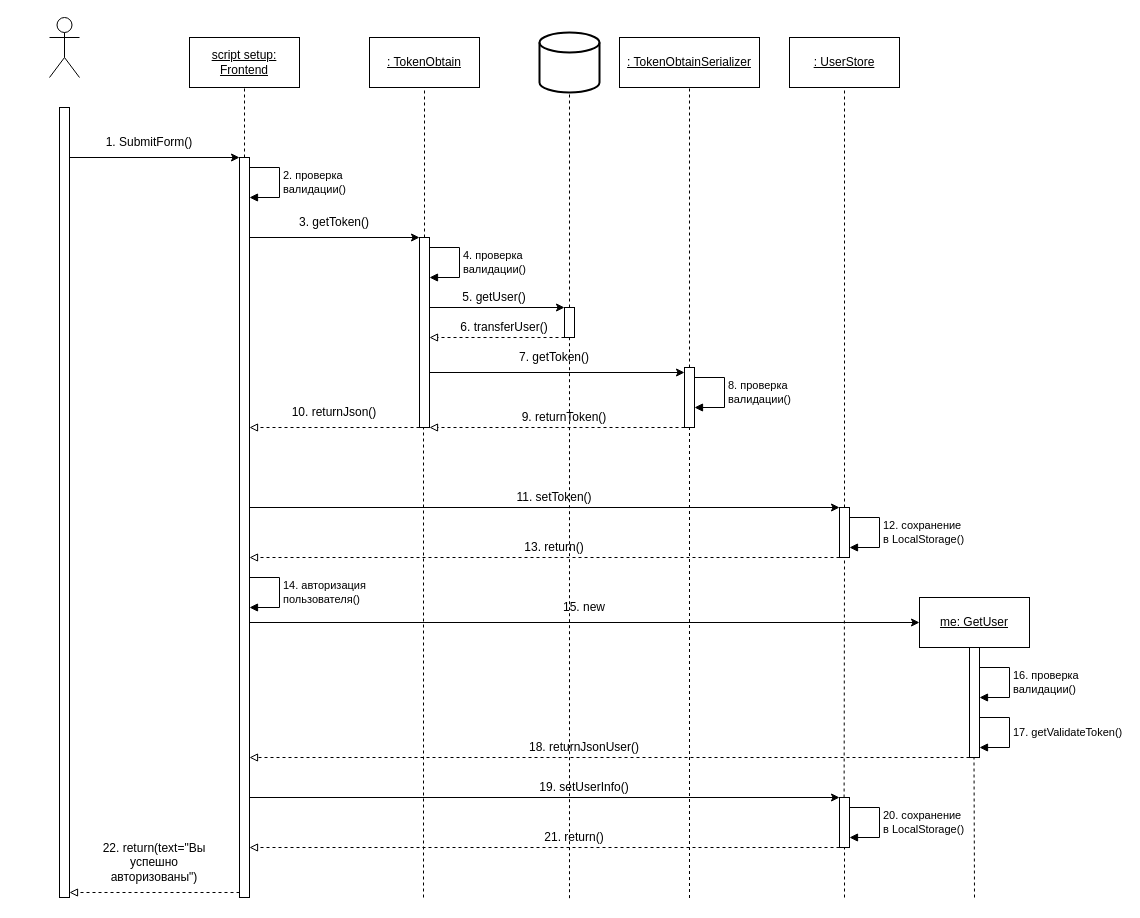
The diagram is 1140 pixels wide and 918 high, and some of its shapes have lost their labels. The centre of each missing label's shape, as x and y in pixels:
: AnonymousUser: [64,47]
БД: [569,62]
